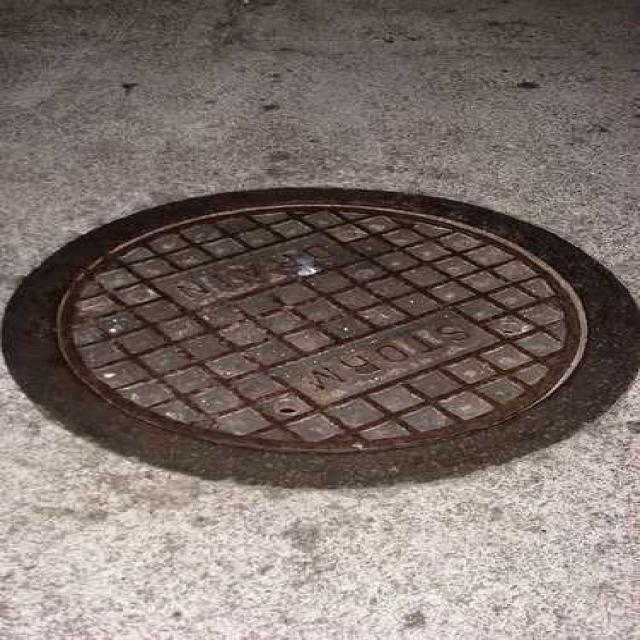manhole: (3, 189, 637, 484)
